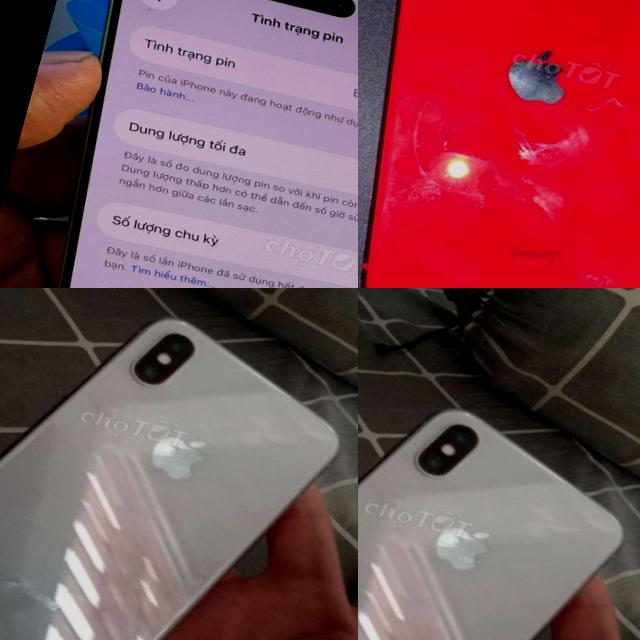gen_11: (358, 0, 640, 288)
gen_17: (0, 0, 358, 288)
gen_x_xs: (0, 319, 337, 640), (358, 410, 621, 640)
